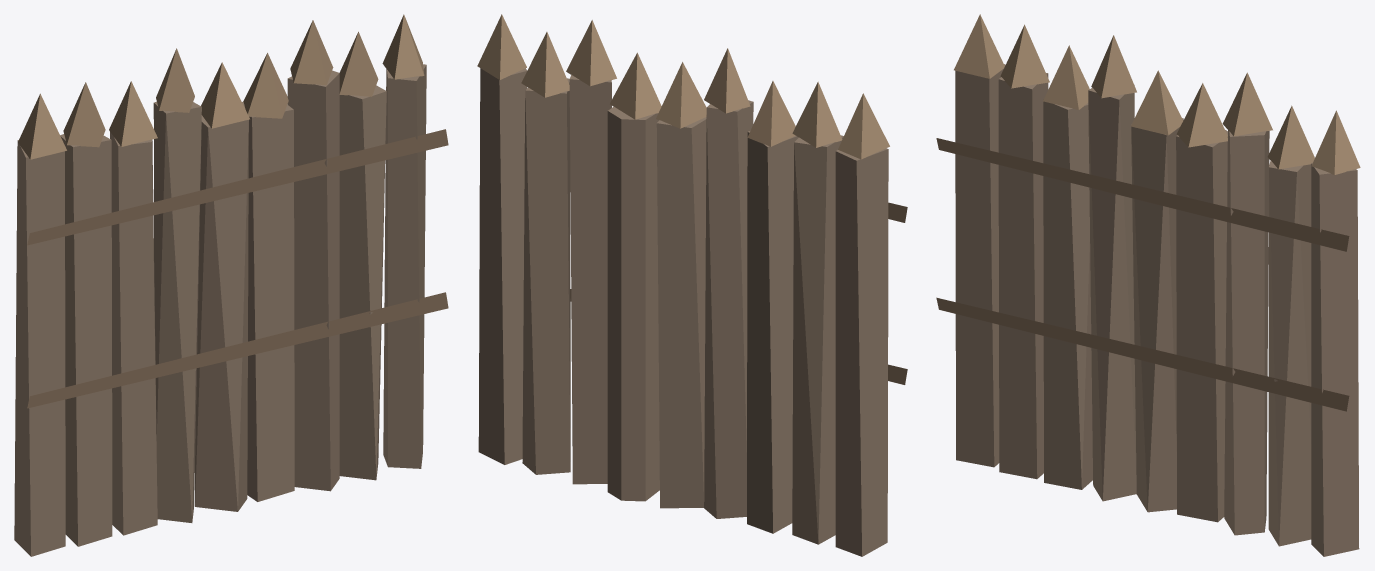
The model's file is palisade_lod1.glb.
3 renders of one model, left to right at view 1: azimuth 30°, elevation 25°; view 2: azimuth 150°, elevation 25°; view 3: azimuth 330°, elevation 25°, orthographic. The views are drawn at different scales.
Visible parts, largest first — view 1: palisade.001; view 2: palisade.001; view 3: palisade.001.
Boxes of the visible parts, <box> form: palisade.001: <box>14,14,448,556</box>; palisade.001: <box>477,14,907,556</box>; palisade.001: <box>936,14,1360,556</box>.
Bounding box in the file's own units: 4.3 × 4.57 × 0.59.
